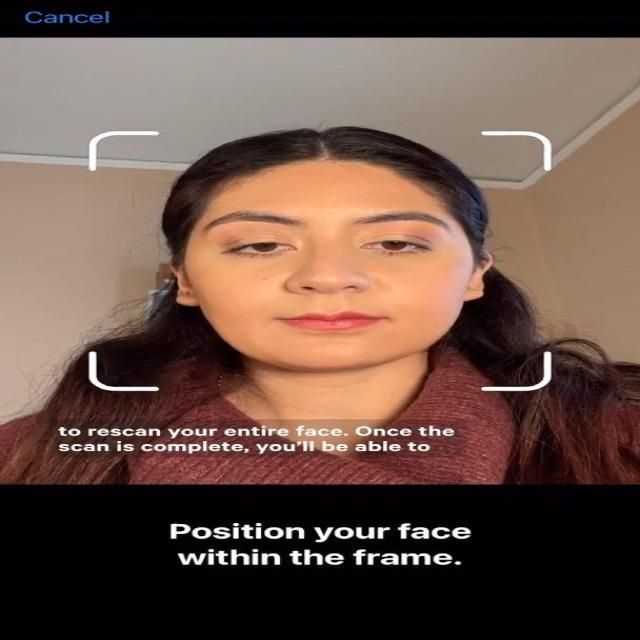NO-Mask: (163, 152, 490, 378)
